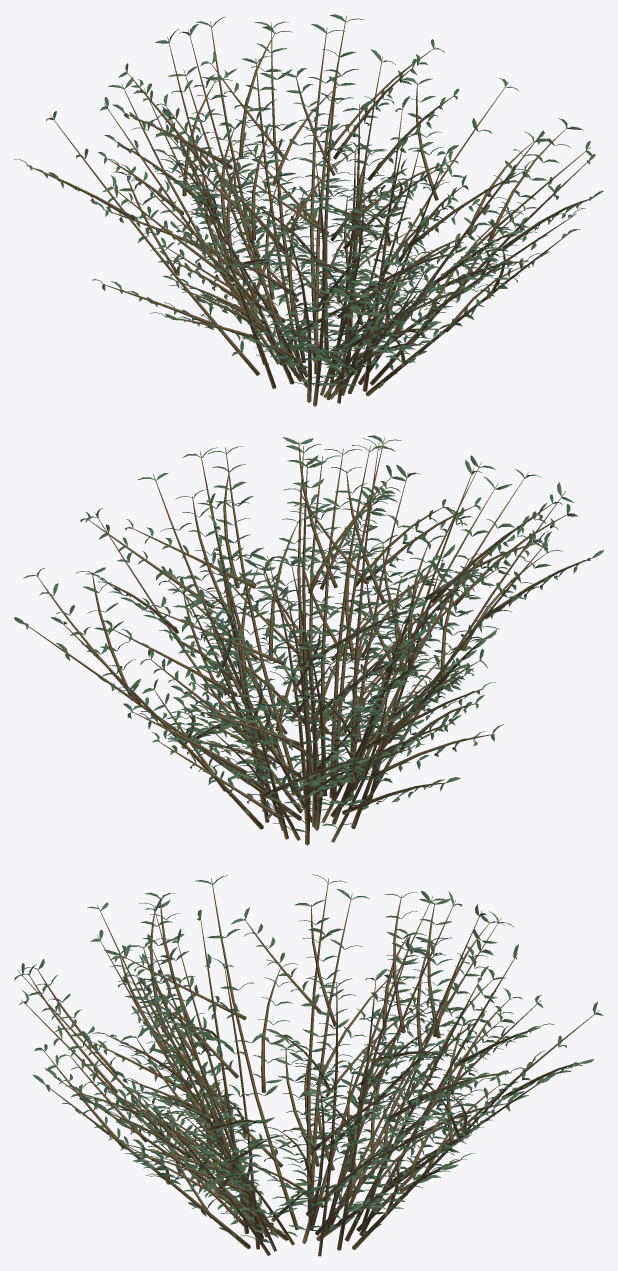
Rendered from Romarin_Dense_LOD0.fbx.
3 renders of one model, top to bottom at view 1: azimuth 30°, elevation 25°; view 2: azimuth 150°, elevation 25°; view 3: azimuth 270°, elevation 25°, orthographic. The views are drawn at different scales.
Parts seen in each view (by area): view 1: Romarin_Dense; view 2: Romarin_Dense; view 3: Romarin_Dense.
Part boxes in pixels (x1,y1,x2,y2): Romarin_Dense: [14, 14, 603, 406]; Romarin_Dense: [14, 435, 603, 845]; Romarin_Dense: [14, 874, 603, 1256].
Bounding box in the file's own units: 88 × 56.81 × 94.84.
